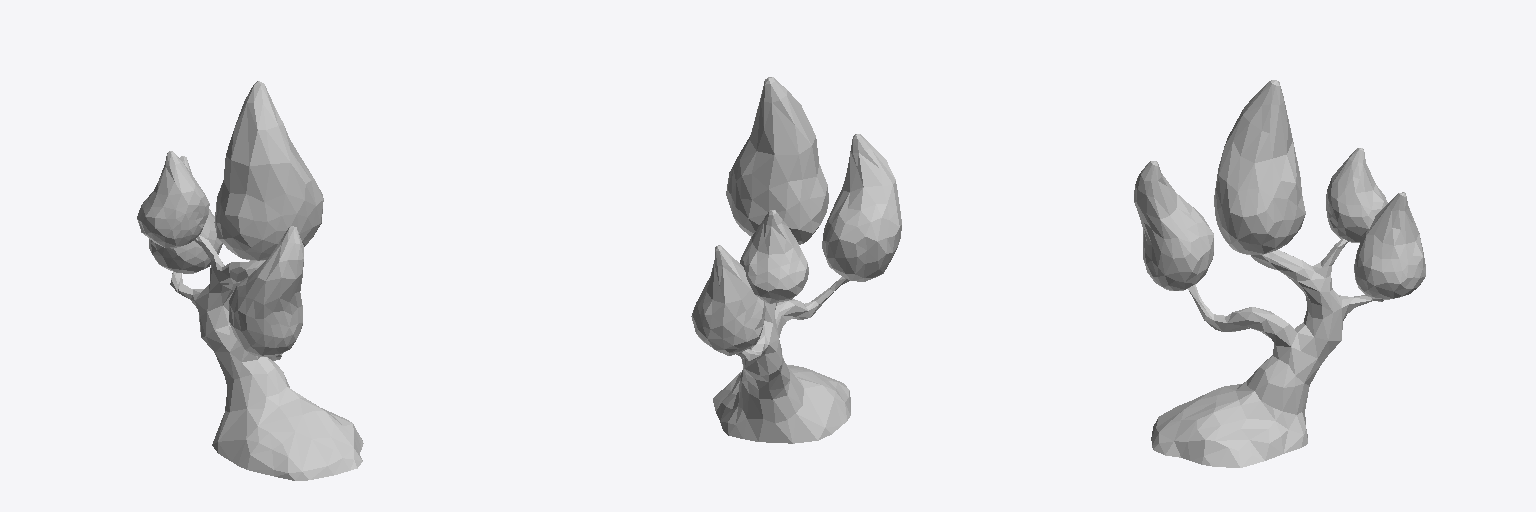
Rendered from fabulous_mushroom_002.obj.
3 renders of one model, left to right at view 1: azimuth 30°, elevation 25°; view 2: azimuth 150°, elevation 25°; view 3: azimuth 270°, elevation 25°, orthographic.
Visible parts, largest first — view 1: fabulous_mushroom_002; view 2: fabulous_mushroom_002; view 3: fabulous_mushroom_002.
Part boxes in pixels (bbox=[...]): fabulous_mushroom_002: bbox=[137, 81, 363, 480]; fabulous_mushroom_002: bbox=[691, 77, 901, 443]; fabulous_mushroom_002: bbox=[1134, 80, 1425, 467].
Bounding box in the file's own units: 4.35 × 9.75 × 7.34.